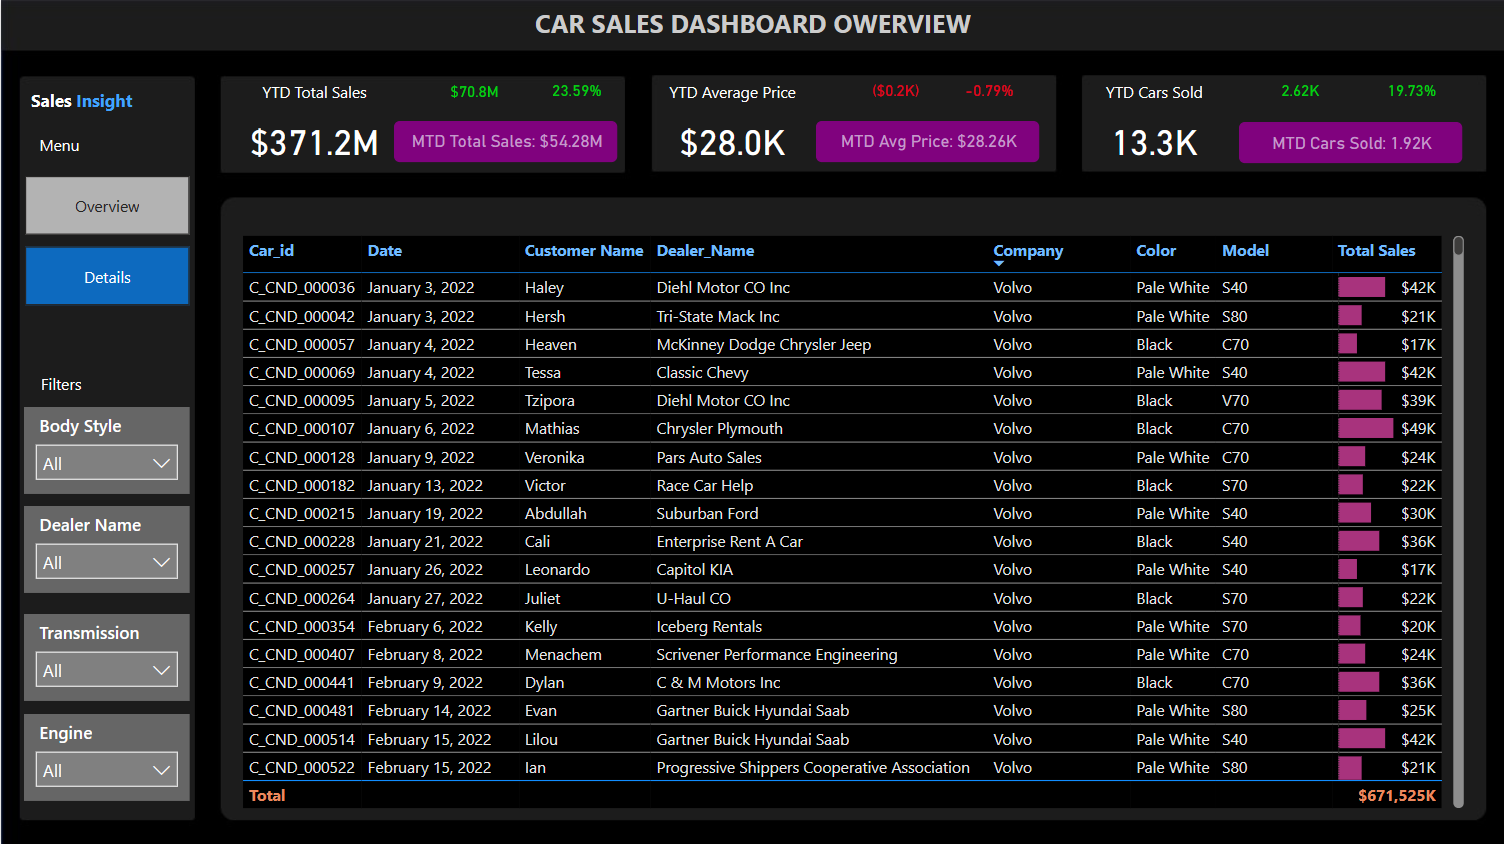

What the dashboard file says about the page in this screenshot:
{"tool":"powerbi","page":{"name":"Details","canvas":[1280,720],"ordinal":1},"visuals":[{"type":"card","title":"YTD Total Sales","fields":{"Values":["car_data.YTD Sales"]},"box":[189.3,69.7,155.6,80.1],"z":0},{"type":"card","title":"YTD Total Sales","fields":{"Values":["car_data.Sales Difference"]},"box":[358.8,62.5,87.7,34.3],"z":1000},{"type":"card","title":"YTD Total Sales","fields":{"Values":["car_data.YoY Sales Growth"]},"box":[446.5,61.5,86.7,34.3],"z":2000},{"type":"card","fields":{"Values":["car_data.MTD KPI"]},"box":[334.5,103.4,190.5,34.8],"z":3000},{"type":"card","title":"YTD Average Price","fields":{"Values":["car_data.YTD Avg Price"]},"box":[562.4,69.5,119.9,80.6],"z":4000},{"type":"card","title":"YTD Total Sales","fields":{"Values":["car_data.Avg Price Diff"]},"box":[717.6,61.5,87.7,34.3],"z":5000},{"type":"card","title":"YTD Total Sales","fields":{"Values":["car_data.YoY Avg Price"]},"box":[797.2,61.5,86.7,34.3],"z":6000},{"type":"card","fields":{"Values":["car_data.MTD Avg KPI"]},"box":[693.4,103.4,190.5,34.8],"z":7000},{"type":"card","title":"YTD Cars Sold","fields":{"Values":["car_data.YTD Cars Sold"]},"box":[922.2,69.5,117.9,80.6],"z":8000},{"type":"card","title":"YTD Total Sales","fields":{"Values":["car_data.Cars Sold Difference"]},"box":[1062.3,62.5,87.7,33.3],"z":9000},{"type":"card","title":"YTD Total Sales","fields":{"Values":["car_data.YoY Cars Sold"]},"box":[1157,61.5,86.7,34.3],"z":10000},{"type":"card","fields":{"Values":["car_data.MTD Cars Sold KPI"]},"box":[1053.2,103.8,190.5,35.3],"z":11000},{"type":"textbox","box":[404.2,0,471.6,45.3],"z":12000},{"type":"slicer","fields":{"Values":["car_data.Body Style"]},"box":[19.7,346.1,140.5,74.3],"z":13000},{"type":"slicer","fields":{"Values":["car_data.Dealer_Region"]},"box":[19.7,430.9,140.5,74.3],"z":14000},{"type":"slicer","fields":{"Values":["car_data.Transmission"]},"box":[19.7,522.7,140.5,74.3],"z":15000},{"type":"slicer","fields":{"Values":["car_data.Engine"]},"box":[19.7,607.5,140.5,74.3],"z":16000},{"type":"tableEx","fields":{"Values":["car_data.Car_id","car_data.Date","car_data.Customer Name","car_data.Dealer_Name","car_data.Company","car_data.Color","car_data.Model","car_data.Price ($)"]},"box":[200.4,196,1049.9,497.4],"z":17000},{"type":"pageNavigator","box":[20.2,150.2,140.1,110.9],"z":18000},{"type":"textbox","box":[20.2,69.5,150.2,32.3],"z":19000},{"type":"textbox","box":[20.2,109.9,58.5,32.3],"z":20000},{"type":"textbox","box":[20.2,313.4,61.5,32.3],"z":21000}]}

Visuals, with their boxes on the page's 1280x720 design canvas (x1, y1, x2, y2). These are canvas units, not pixel positions in the 1504x844 screenshot, which may show the page scaled, cropped or inside an application window:
"YTD Total Sales" card: [left=189, top=70, right=345, bottom=150]
"YTD Total Sales" card: [left=359, top=62, right=446, bottom=97]
"YTD Total Sales" card: [left=446, top=62, right=533, bottom=96]
card - car_data.MTD KPI: [left=334, top=103, right=525, bottom=138]
"YTD Average Price" card: [left=562, top=70, right=682, bottom=150]
"YTD Total Sales" card: [left=718, top=62, right=805, bottom=96]
"YTD Total Sales" card: [left=797, top=62, right=884, bottom=96]
card - car_data.MTD Avg KPI: [left=693, top=103, right=884, bottom=138]
"YTD Cars Sold" card: [left=922, top=70, right=1040, bottom=150]
"YTD Total Sales" card: [left=1062, top=62, right=1150, bottom=96]
"YTD Total Sales" card: [left=1157, top=62, right=1244, bottom=96]
card - car_data.MTD Cars Sold KPI: [left=1053, top=104, right=1244, bottom=139]
textbox: [left=404, top=0, right=876, bottom=45]
slicer - car_data.Body Style: [left=20, top=346, right=160, bottom=420]
slicer - car_data.Dealer_Region: [left=20, top=431, right=160, bottom=505]
slicer - car_data.Transmission: [left=20, top=523, right=160, bottom=597]
slicer - car_data.Engine: [left=20, top=608, right=160, bottom=682]
tableEx - car_data.Car_id x car_data.Date: [left=200, top=196, right=1250, bottom=693]
pageNavigator: [left=20, top=150, right=160, bottom=261]
textbox: [left=20, top=70, right=170, bottom=102]
textbox: [left=20, top=110, right=79, bottom=142]
textbox: [left=20, top=313, right=82, bottom=346]
